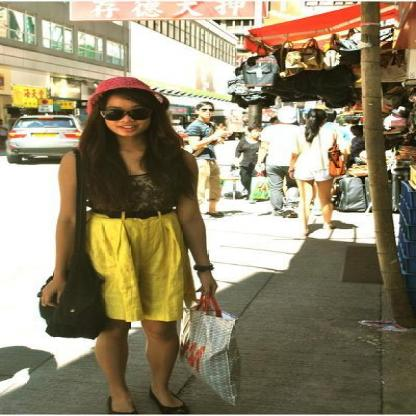bag: (174, 301, 252, 407)
shirt: (93, 163, 181, 239)
shoe: (151, 393, 186, 414)
skirt: (90, 214, 198, 324)
sunglass: (113, 105, 142, 120)
